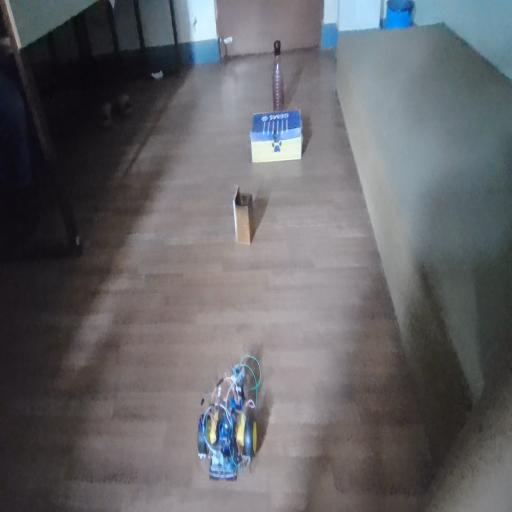Bottle: (270, 35, 296, 113)
car: (179, 350, 259, 463)
